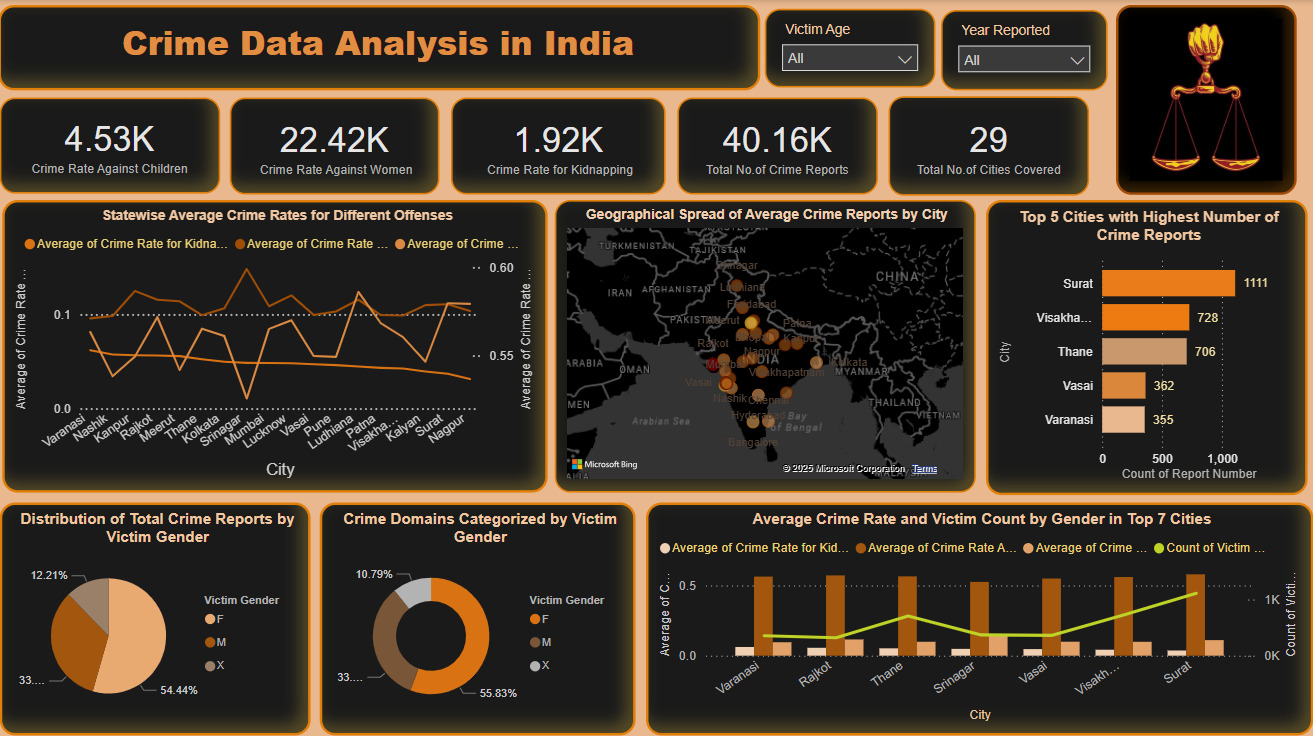

The dashboard page shown, as its layout file describes it:
{"tool":"powerbi","page":{"name":"Page 1","canvas":[1280,720],"ordinal":0},"visuals":[{"type":"textbox","box":[7.4,4.9,735,82.2],"z":0},{"type":"card","fields":{"Values":["Sum(updated_crime_dataset_with_rates.Crime Rate Against Children)"]},"box":[8.8,93.8,212.5,92.5],"z":1000},{"type":"card","fields":{"Values":["Sum(updated_crime_dataset_with_rates.Crime Rate Against Women)"]},"box":[230,93.8,202.5,93.8],"z":2000},{"type":"card","fields":{"Values":["Sum(updated_crime_dataset_with_rates.Crime Rate for Kidnapping)"]},"box":[443.8,93.8,207.5,93.8],"z":3000},{"type":"card","fields":{"Values":["Count(updated_crime_dataset_with_rates.City)"]},"box":[866.3,93.3,193.9,95.7],"z":4000},{"type":"card","fields":{"Values":["CountNonNull(updated_crime_dataset_with_rates.Report Number)"]},"box":[662.5,93.8,193.8,93.8],"z":5000},{"type":"map","title":"Geographical Spread of Average Crime Reports by City","fields":{"Category":["updated_crime_dataset_with_rates.City"],"Size":["Avg(updated_crime_dataset_with_rates.Report Number)"]},"box":[543.6,192.6,406.1,282.2],"z":6000},{"type":"clusteredBarChart","title":"Top 5 Cities with Highest Number of Crime Reports","fields":{"Category":["updated_crime_dataset_with_rates.City"],"Y":["CountNonNull(updated_crime_dataset_with_rates.Report Number)"]},"box":[960,192.5,310,285],"z":7000},{"type":"lineChart","title":"Statewise Average Crime Rates for Different Offenses","fields":{"Category":["updated_crime_dataset_with_rates.City"],"Y":["Avg(updated_crime_dataset_with_rates.Crime Rate for Kidnapping)","Avg(updated_crime_dataset_with_rates.Crime Rate Against Children)"],"Y2":["Avg(updated_crime_dataset_with_rates.Crime Rate Against Women)"]},"box":[11,192.6,526.4,282.2],"z":8000},{"type":"slicer","fields":{"Values":["updated_crime_dataset_with_rates.Victim Age"]},"box":[747.2,8.6,164.4,76.1],"z":9000},{"type":"slicer","fields":{"Values":["updated_crime_dataset_with_rates.Year Reported"]},"box":[916.6,9.8,160.7,77.3],"z":10000},{"type":"pieChart","title":"Distribution of Total Crime Reports by Victim Gender","fields":{"Category":["updated_crime_dataset_with_rates.Victim Gender"],"Y":["Sum(updated_crime_dataset_with_rates.Report Number)"]},"box":[8.8,485,300,225],"z":11000},{"type":"donutChart","title":"Crime Domains Categorized by Victim Gender","fields":{"Category":["updated_crime_dataset_with_rates.Victim Gender"],"Y":["CountNonNull(updated_crime_dataset_with_rates.Crime Domain)"]},"box":[317.5,485,305,225],"z":12000},{"type":"lineClusteredColumnComboChart","title":"Average Crime Rate and Victim Count by Gender in Top 7 Cities","fields":{"Category":["updated_crime_dataset_with_rates.City"],"Y":["Avg(updated_crime_dataset_with_rates.Crime Rate for Kidnapping)","Avg(updated_crime_dataset_with_rates.Crime Rate Against Women)","Avg(updated_crime_dataset_with_rates.Crime Rate Against Children)"],"Y2":["CountNonNull(updated_crime_dataset_with_rates.Victim Gender)"]},"box":[632.5,485,643.8,225],"z":13000},{"type":"image","box":[1085.9,4.9,174.2,182.8],"z":15000}]}

Visuals, with their boxes in screenshot pixels (x1, y1, x2, y2), scaled from the page's 1280x720 canvas onto the 1313x736 screenshot:
textbox: locate(8, 5, 762, 89)
card - Sum(updated_crime_dataset_with_rates.Crime Rate Against Children): locate(9, 96, 227, 190)
card - Sum(updated_crime_dataset_with_rates.Crime Rate Against Women): locate(236, 96, 444, 192)
card - Sum(updated_crime_dataset_with_rates.Crime Rate for Kidnapping): locate(455, 96, 668, 192)
card - Count(updated_crime_dataset_with_rates.City): locate(889, 95, 1088, 193)
card - CountNonNull(updated_crime_dataset_with_rates.Report Number): locate(680, 96, 878, 192)
"Geographical Spread of Average Crime Reports by City" map: locate(558, 197, 974, 485)
"Top 5 Cities with Highest Number of Crime Reports" clusteredBarChart: locate(985, 197, 1303, 488)
"Statewise Average Crime Rates for Different Offenses" lineChart: locate(11, 197, 551, 485)
slicer - updated_crime_dataset_with_rates.Victim Age: locate(766, 9, 935, 87)
slicer - updated_crime_dataset_with_rates.Year Reported: locate(940, 10, 1105, 89)
"Distribution of Total Crime Reports by Victim Gender" pieChart: locate(9, 496, 317, 726)
"Crime Domains Categorized by Victim Gender" donutChart: locate(326, 496, 639, 726)
"Average Crime Rate and Victim Count by Gender in Top 7 Cities" lineClusteredColumnComboChart: locate(649, 496, 1309, 726)
image: locate(1114, 5, 1293, 192)
